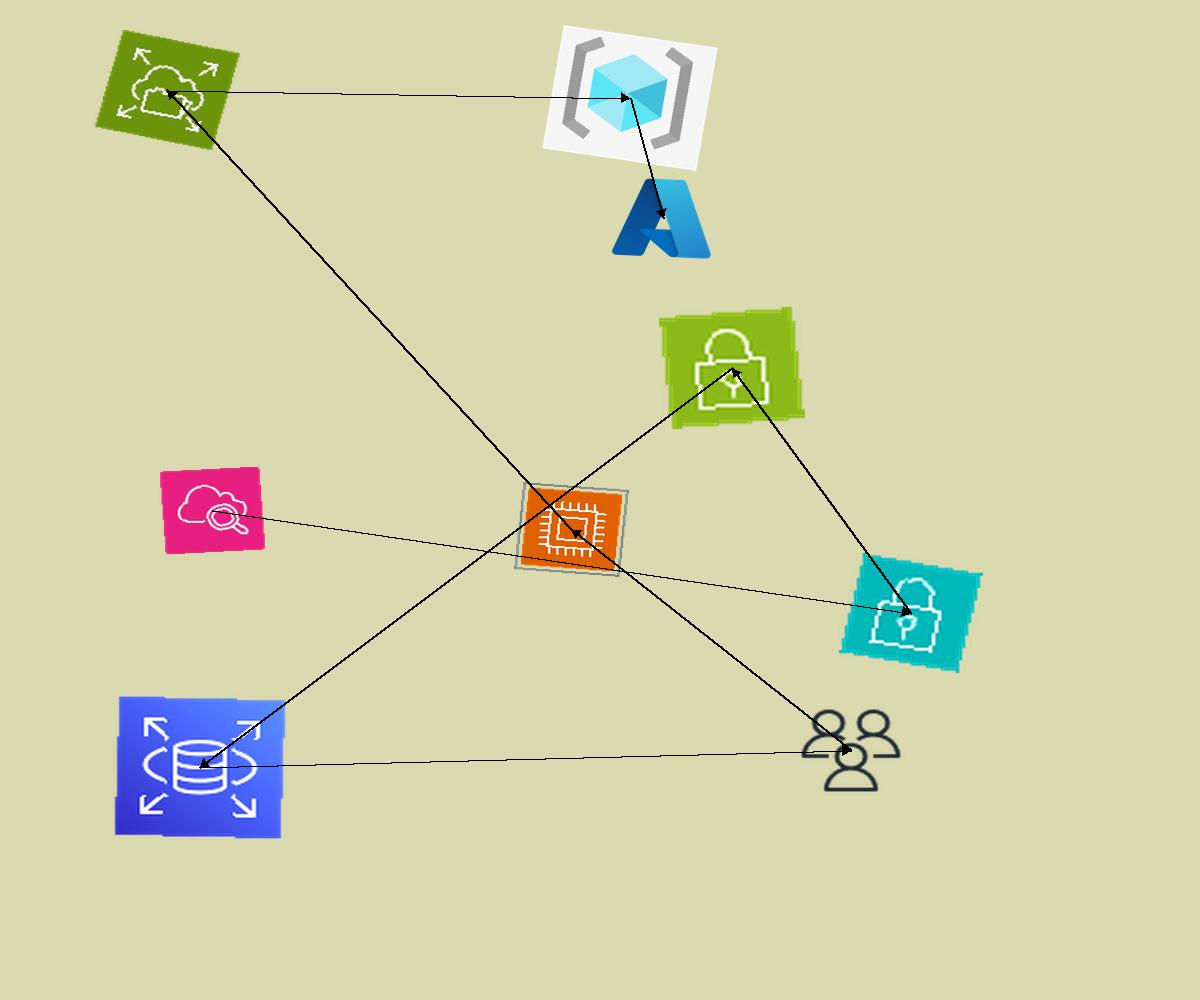AWS-Category_Compute: (514, 482, 629, 577)
AWS-CloudWatch: (159, 466, 266, 555)
AWS-EFS: (94, 29, 241, 151)
AWS-Private-subnet: (839, 553, 983, 673)
AWS-Public-subnet: (659, 307, 805, 429)
AWS-RDS: (113, 695, 287, 840)
AWS-Res_Users: (795, 704, 907, 797)
Azure_resource_group: (542, 25, 718, 171)
Azure_services: (607, 171, 720, 265)
